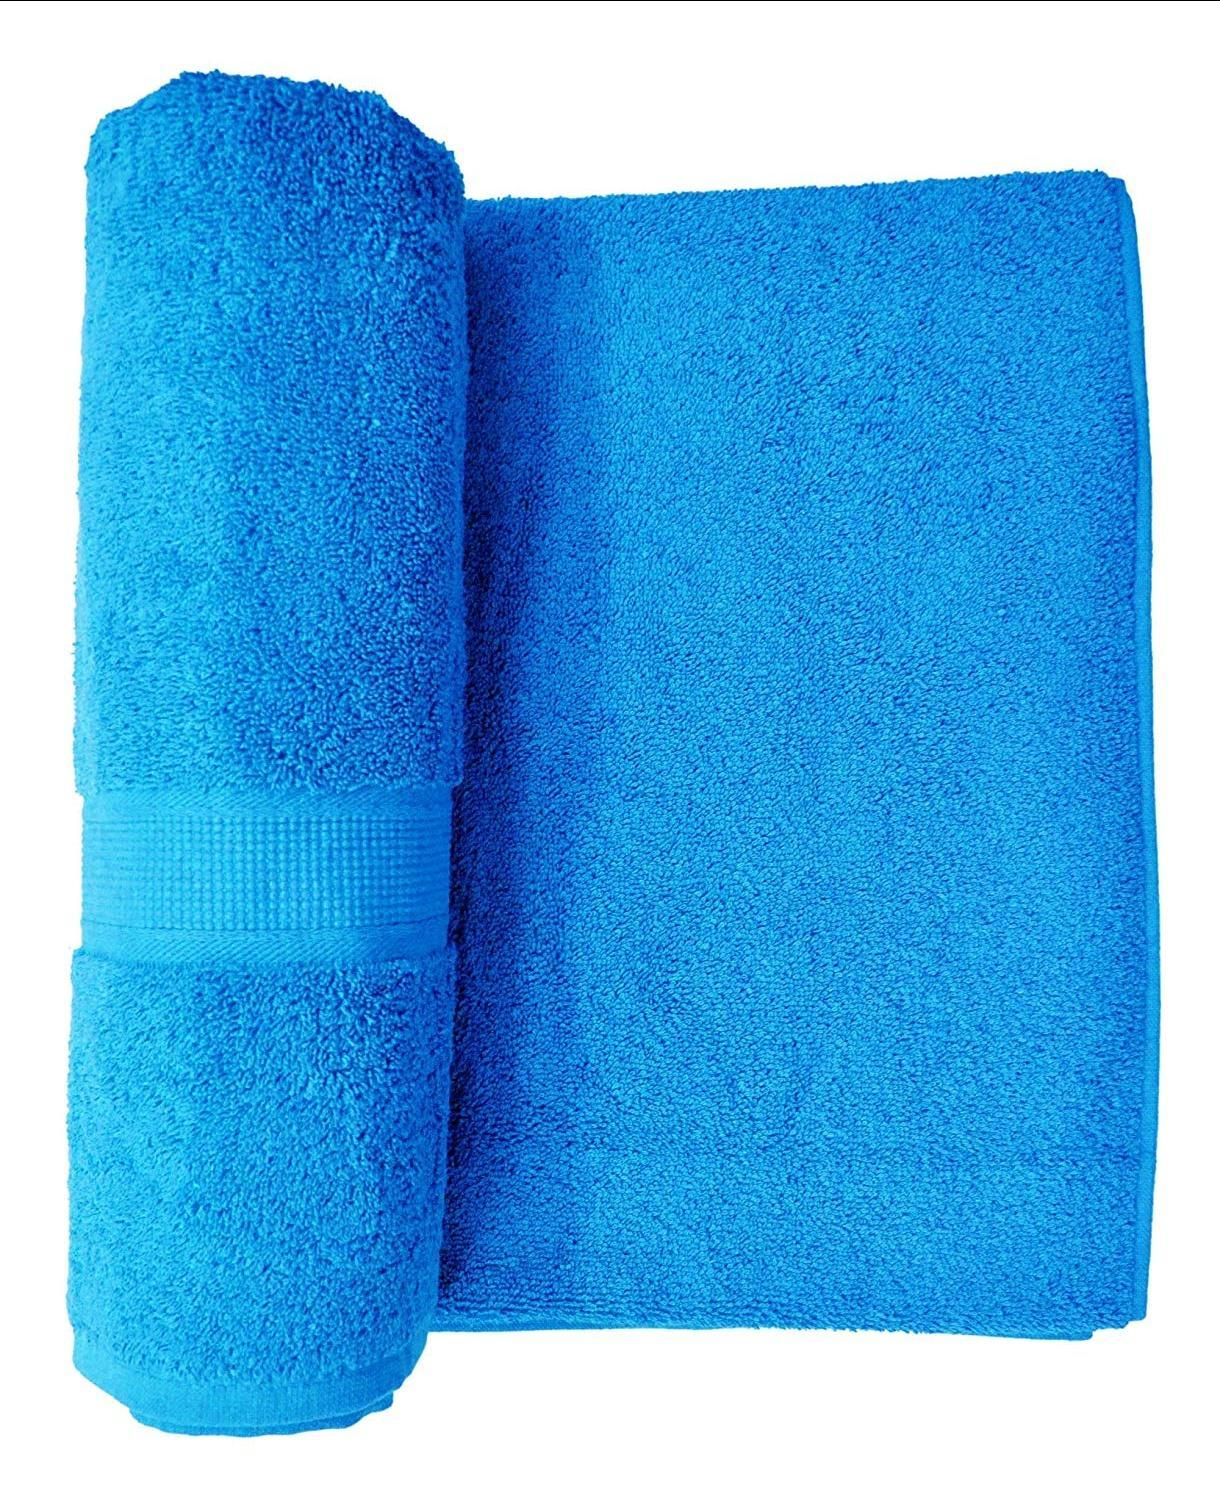towel: (36, 0, 1220, 1500)
